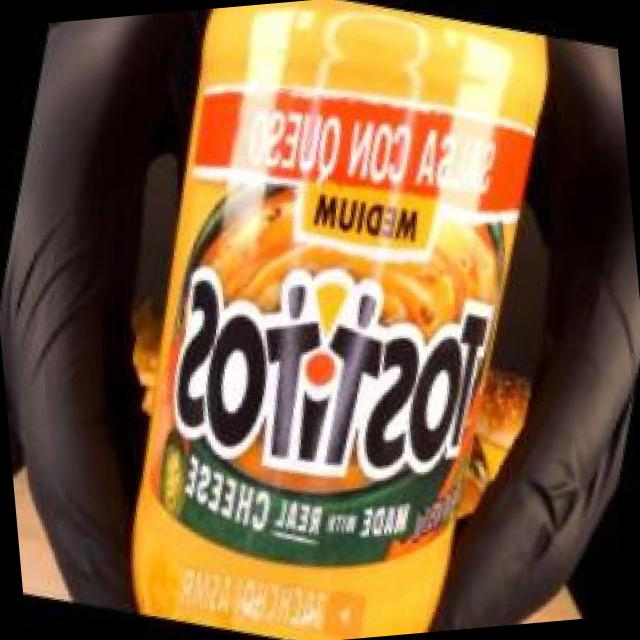tostitos cheese dip sauce: (48, 0, 620, 640)
